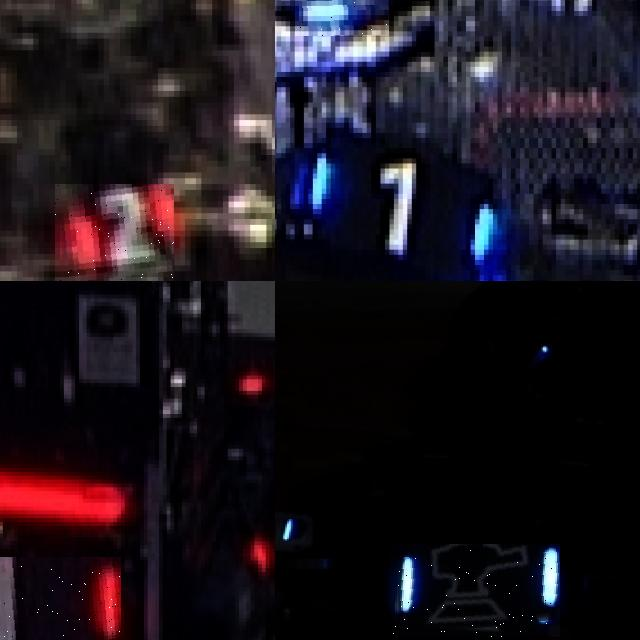B1: (299, 153, 502, 275), (294, 0, 389, 36)
Bs: (389, 544, 560, 637)
R1: (0, 556, 120, 640)
R2: (54, 184, 174, 281)
